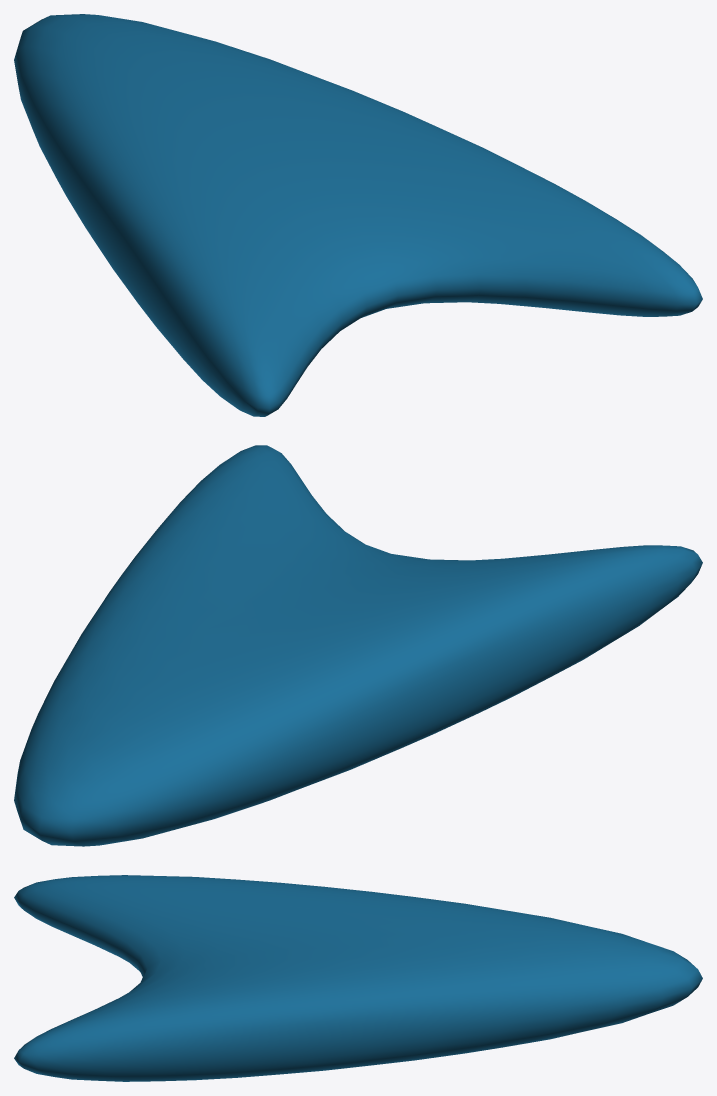
File: arrow.fbx
The picture shows the model from 3 angles, top to bottom: view 1: azimuth 30°, elevation 25°; view 2: azimuth 150°, elevation 25°; view 3: azimuth 270°, elevation 25°; orthographic projection. The views are drawn at different scales.
Parts seen in each view (by area): view 1: Cube; view 2: Cube; view 3: Cube.
Boxes of the visible parts, x1,y1,x2,y2 form: Cube: (14,14,702,416); Cube: (14,445,702,846); Cube: (14,875,702,1081).
Size of the model in its own units: 72.73 by 17.47 by 124.
